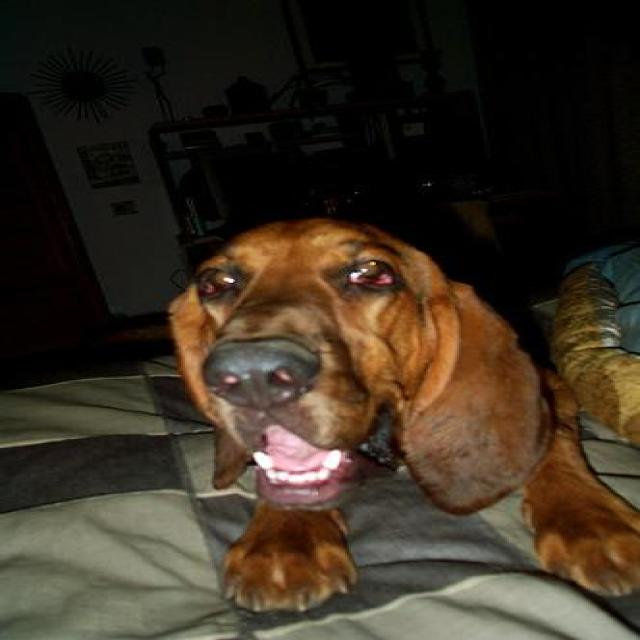bloodhound: (160, 214, 636, 616)
